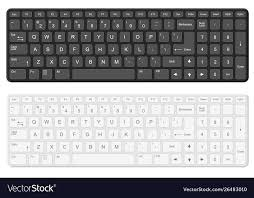keyboard: (4, 9, 253, 79), (10, 99, 246, 167)
